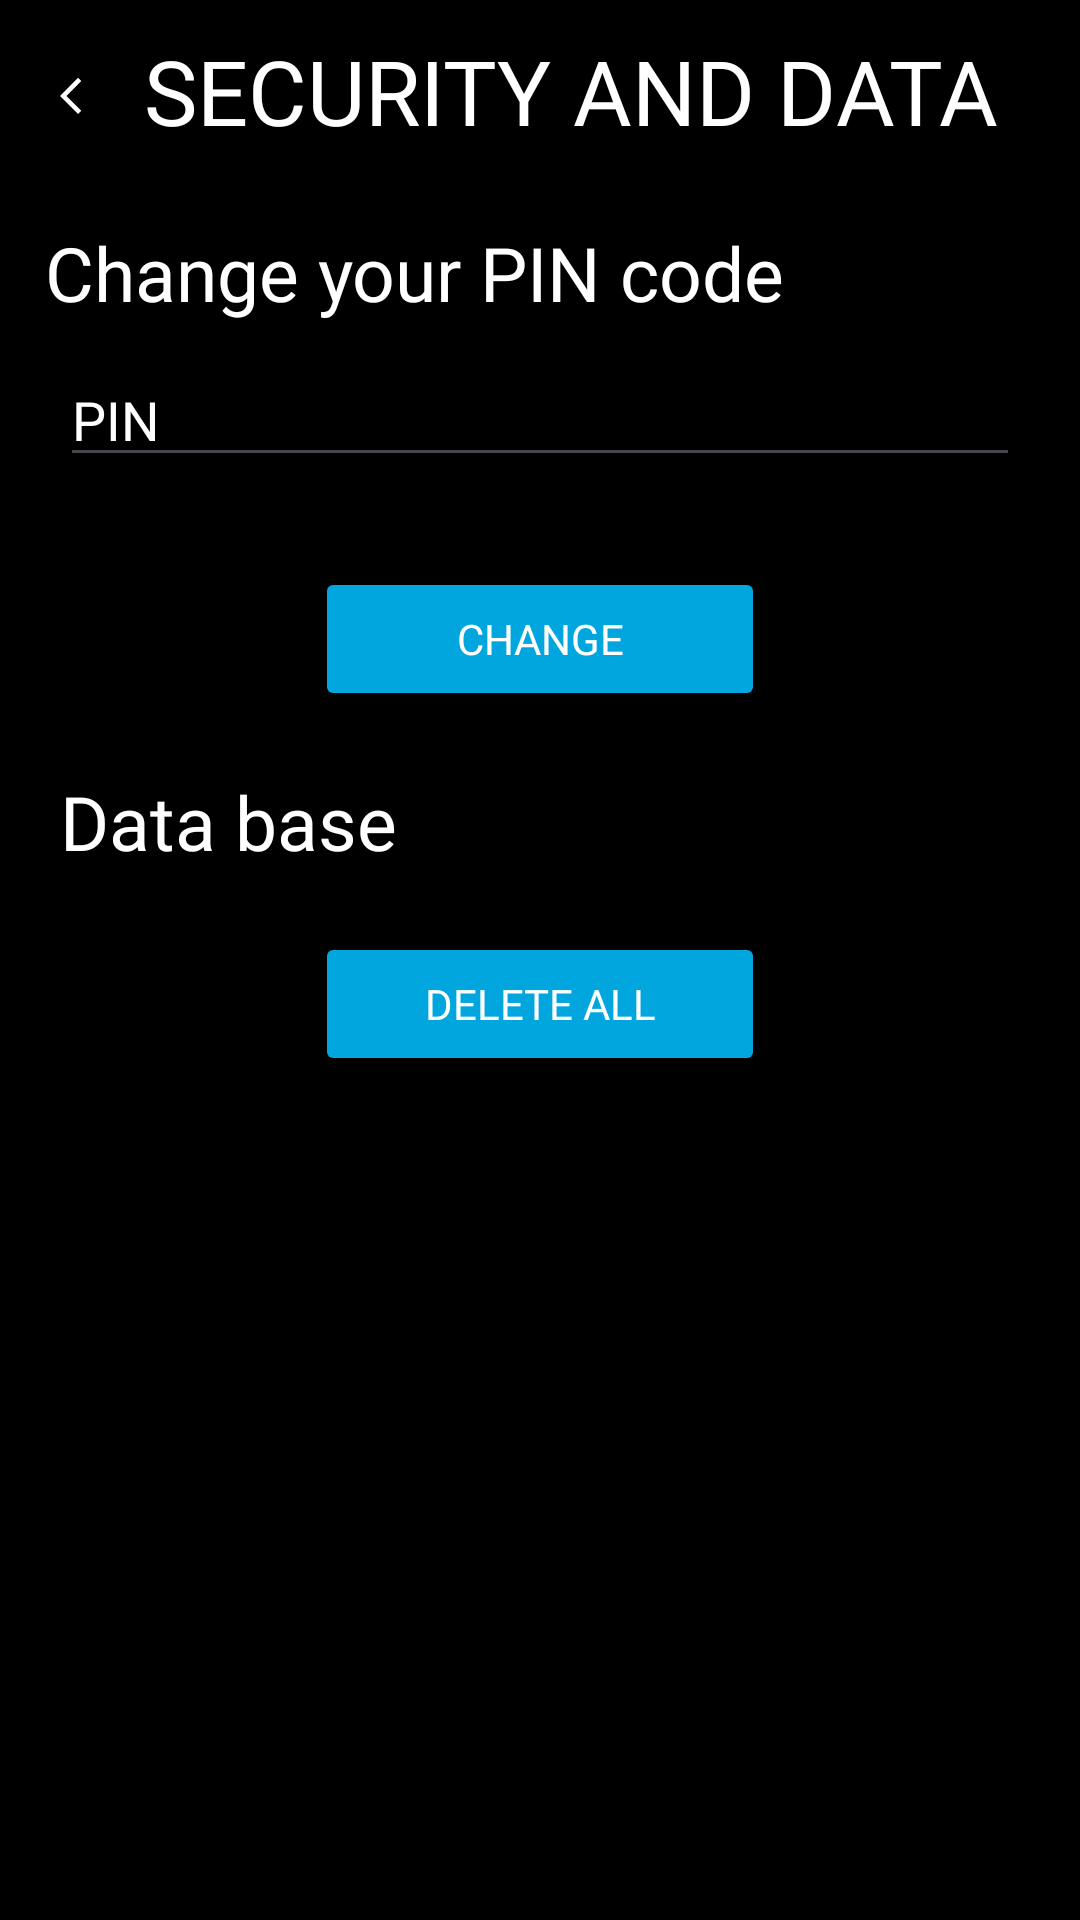

Where to tap for icons on this 1080px x 1920px app screen, as point (x, y):
keyboard arrow left: point (70, 96)
